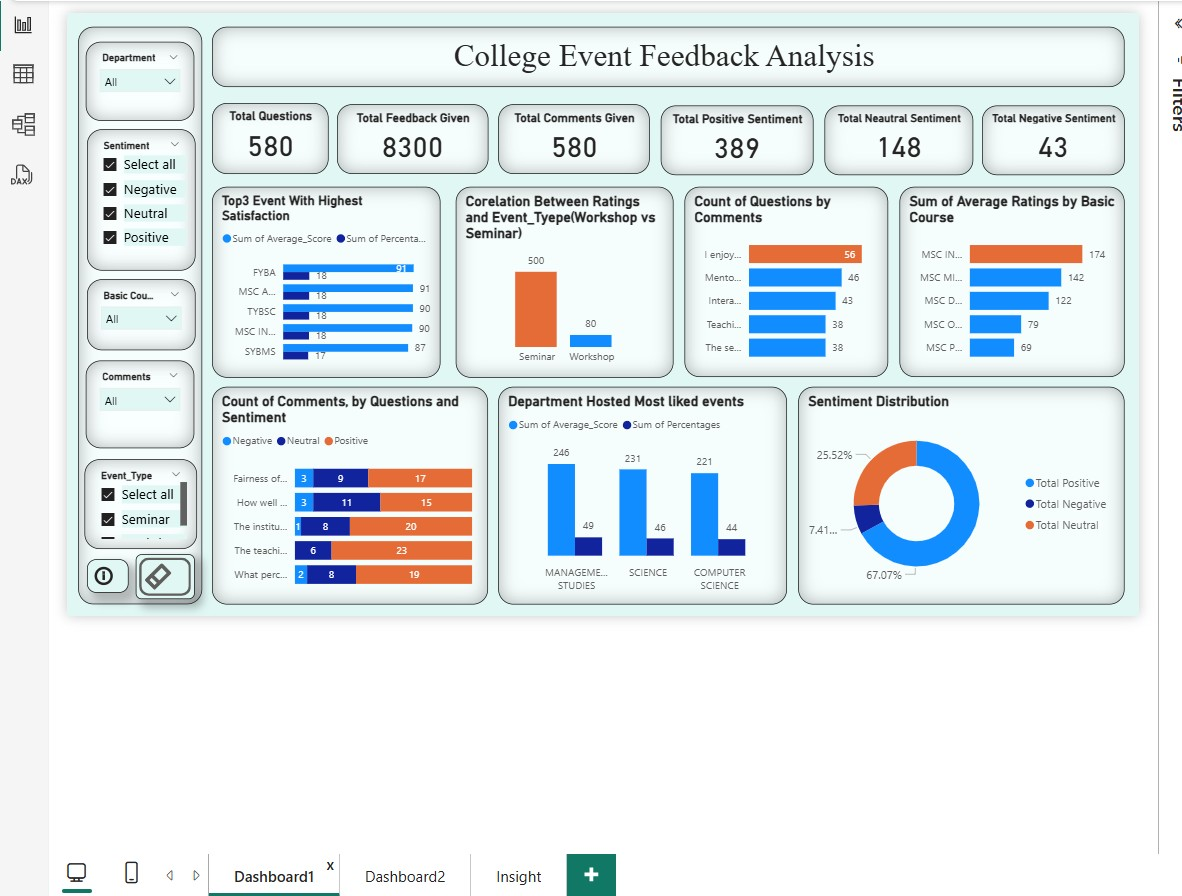

The dashboard page shown, as its layout file describes it:
{"tool":"powerbi","page":{"name":"Dashboard1","canvas":[1280,720],"ordinal":0},"visuals":[{"type":"textbox","box":[173.1,16.4,1089.6,71.6],"z":0},{"type":"card","title":"Total Questions","fields":{"Values":["CountNonNull(Cleaned_Student_Satisfaction_Surveys.Questions)"]},"box":[173.1,107.5,138.8,85.1],"z":1000},{"type":"card","title":"Total Feedback Given","fields":{"Values":["Sum(Cleaned_Student_Satisfaction_Surveys.Total Feedback Given)"]},"box":[322.4,109,180.6,83.6],"z":2000},{"type":"card","title":"Total Comments Given","fields":{"Values":["CountNonNull(Cleaned_Student_Satisfaction_Surveys.Comments)"]},"box":[514.9,109,180.6,83.6],"z":3000},{"type":"card","title":"Total Positive Sentiment","fields":{"Values":["Cleaned_Student_Satisfaction_Surveys.Total Positive"]},"box":[709,110.4,182.1,83.6],"z":4000},{"type":"card","title":"Total Neautral Sentiment","fields":{"Values":["Cleaned_Student_Satisfaction_Surveys.Total Neutral"]},"box":[904.5,110.4,177.6,83.6],"z":5000},{"type":"card","title":"Total Negative Sentiment","fields":{"Values":["Cleaned_Student_Satisfaction_Surveys.Total Negative"]},"box":[1092.5,110.4,170.1,83.6],"z":6000},{"type":"textbox","box":[13.4,16.4,147.8,689.6],"z":7000},{"type":"donutChart","title":"Sentiment Distribution","fields":{"Y":["Cleaned_Student_Satisfaction_Surveys.Total Positive","Cleaned_Student_Satisfaction_Surveys.Total Negative","Cleaned_Student_Satisfaction_Surveys.Total Neutral"]},"box":[873.1,446.3,389.6,259.7],"z":8000},{"type":"clusteredColumnChart","title":"Corelation Between Ratings and Event_Tyepe(Workshop vs Seminar)","fields":{"Category":["Cleaned_Student_Satisfaction_Surveys.Event_Type"],"Y":["CountNonNull(Cleaned_Student_Satisfaction_Surveys.Average_Score)"]},"box":[464.2,207.5,259.7,228.4],"z":9000},{"type":"clusteredBarChart","title":"Top3 Event With Highest Satisfaction","fields":{"Category":["Cleaned_Student_Satisfaction_Surveys.Course Name"],"Y":["Sum(Cleaned_Student_Satisfaction_Surveys.Average_Score)","Sum(Cleaned_Student_Satisfaction_Surveys.Percentages)"]},"box":[173.1,207.5,273.1,228.4],"z":10000},{"type":"clusteredBarChart","title":"Count of Questions  by Comments","fields":{"Y":["CountNonNull(Cleaned_Student_Satisfaction_Surveys.Questions)"],"Category":["Cleaned_Student_Satisfaction_Surveys.Comments"]},"box":[737.3,207.5,243.3,226.9],"z":11000},{"type":"barChart","title":"Count of Comments, by Questions and Sentiment","fields":{"Y":["CountNonNull(Cleaned_Student_Satisfaction_Surveys.Comments)"],"Category":["Cleaned_Student_Satisfaction_Surveys.Questions"],"Series":["Cleaned_Student_Satisfaction_Surveys.Sentiment"]},"box":[173.1,446.3,329.9,259.7],"z":12000},{"type":"clusteredColumnChart","title":"Department Hosted Most liked events","fields":{"Category":["Cleaned_Student_Satisfaction_Surveys.Department"],"Y":["Sum(Cleaned_Student_Satisfaction_Surveys.Average_Score)","Sum(Cleaned_Student_Satisfaction_Surveys.Percentages)"]},"box":[514.9,446.3,344.8,259.7],"z":13000},{"type":"clusteredBarChart","title":"Sum of Average Ratings by Basic Course","fields":{"Y":["Sum(Cleaned_Student_Satisfaction_Surveys.Average_Score)"],"Category":["Cleaned_Student_Satisfaction_Surveys.Basic Course"]},"box":[994,207.5,268.7,226.9],"z":14000},{"type":"slicer","fields":{"Values":["Cleaned_Student_Satisfaction_Surveys.Department"]},"box":[22.4,34.3,129.9,94],"z":15000},{"type":"slicer","fields":{"Values":["Cleaned_Student_Satisfaction_Surveys.Sentiment"]},"box":[23.9,138.8,129.9,168.7],"z":16000},{"type":"slicer","fields":{"Values":["Cleaned_Student_Satisfaction_Surveys.Basic Course"]},"box":[23.9,317.9,129.9,85.1],"z":17000},{"type":"slicer","fields":{"Values":["Cleaned_Student_Satisfaction_Surveys.Comments"]},"box":[22.4,414.9,129.9,104.5],"z":18000},{"type":"slicer","fields":{"Values":["Cleaned_Student_Satisfaction_Surveys.Event_Type"]},"box":[20.9,532.8,134.3,107.5],"z":19000},{"type":"actionButton","box":[23.9,652.2,49.3,40.3],"z":19001},{"type":"actionButton","box":[82.1,646.3,70.1,53.7],"z":19002}]}

Visuals, with their boxes on the page's 1280x720 design canvas (x1, y1, x2, y2). These are canvas units, not pixel positions in the 1182x896 screenshot, which may show the page scaled, cropped or inside an application window:
textbox: (173, 16, 1263, 88)
"Total Questions" card: (173, 108, 312, 193)
"Total Feedback Given" card: (322, 109, 503, 193)
"Total Comments Given" card: (515, 109, 696, 193)
"Total Positive Sentiment" card: (709, 110, 891, 194)
"Total Neautral Sentiment" card: (904, 110, 1082, 194)
"Total Negative Sentiment" card: (1092, 110, 1263, 194)
textbox: (13, 16, 161, 706)
"Sentiment Distribution" donutChart: (873, 446, 1263, 706)
"Corelation Between Ratings and Event_Tyepe(Workshop vs Seminar)" clusteredColumnChart: (464, 208, 724, 436)
"Top3 Event With Highest Satisfaction" clusteredBarChart: (173, 208, 446, 436)
"Count of Questions  by Comments" clusteredBarChart: (737, 208, 981, 434)
"Count of Comments, by Questions and Sentiment" barChart: (173, 446, 503, 706)
"Department Hosted Most liked events" clusteredColumnChart: (515, 446, 860, 706)
"Sum of Average Ratings by Basic Course" clusteredBarChart: (994, 208, 1263, 434)
slicer - Cleaned_Student_Satisfaction_Surveys.Department: (22, 34, 152, 128)
slicer - Cleaned_Student_Satisfaction_Surveys.Sentiment: (24, 139, 154, 308)
slicer - Cleaned_Student_Satisfaction_Surveys.Basic Course: (24, 318, 154, 403)
slicer - Cleaned_Student_Satisfaction_Surveys.Comments: (22, 415, 152, 519)
slicer - Cleaned_Student_Satisfaction_Surveys.Event_Type: (21, 533, 155, 640)
actionButton: (24, 652, 73, 692)
actionButton: (82, 646, 152, 700)
